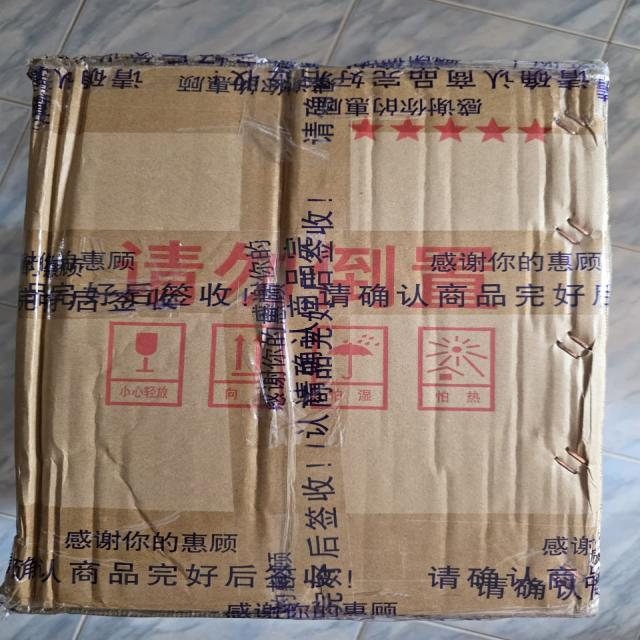carton_box: (0, 48, 616, 631)
fragile_label: (92, 303, 198, 419)
keep_dry_label: (313, 316, 395, 420)
protect_from_heat_label: (403, 319, 511, 421)
this_side_up_label: (200, 314, 303, 419)
